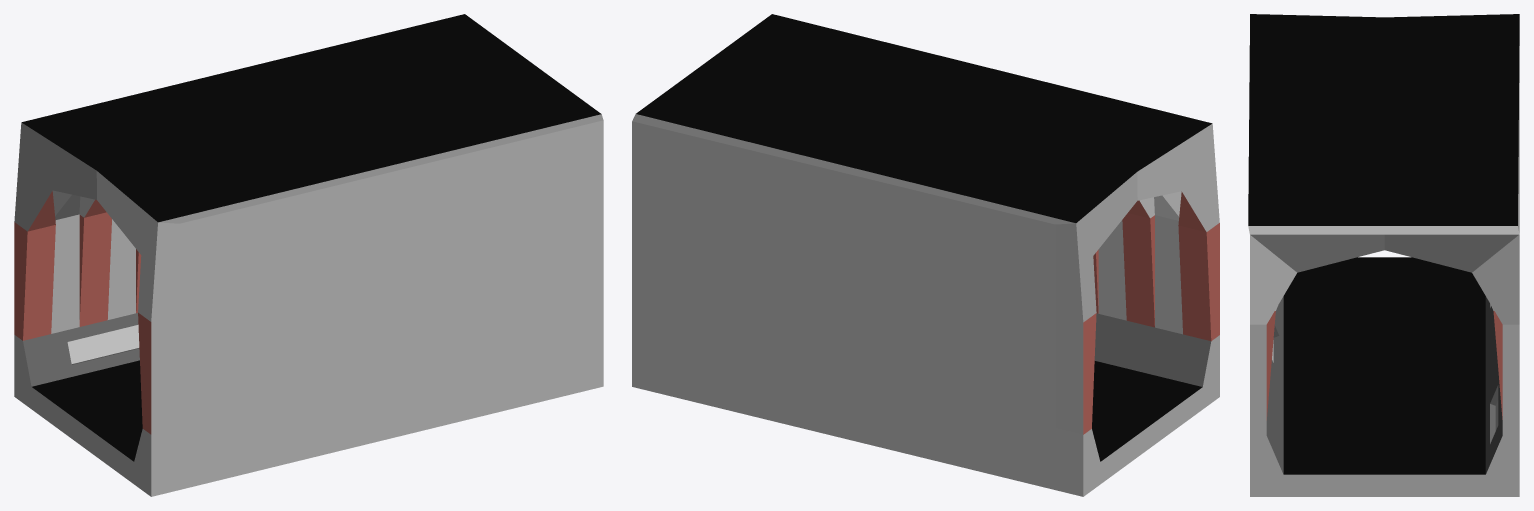
3 views of the same model, side by side, from view 1: azimuth 30°, elevation 25°; view 2: azimuth 150°, elevation 25°; view 3: azimuth 270°, elevation 25° (orthographic).
Parts seen in each view (by area): view 1: Cube; view 2: Cube; view 3: Cube.
Boxes of the visible parts, bbox=[...] form: Cube: bbox=[14, 14, 603, 496]; Cube: bbox=[632, 14, 1219, 496]; Cube: bbox=[1248, 14, 1519, 496].
Bounding box in the file's own units: 840 × 486 × 443.
